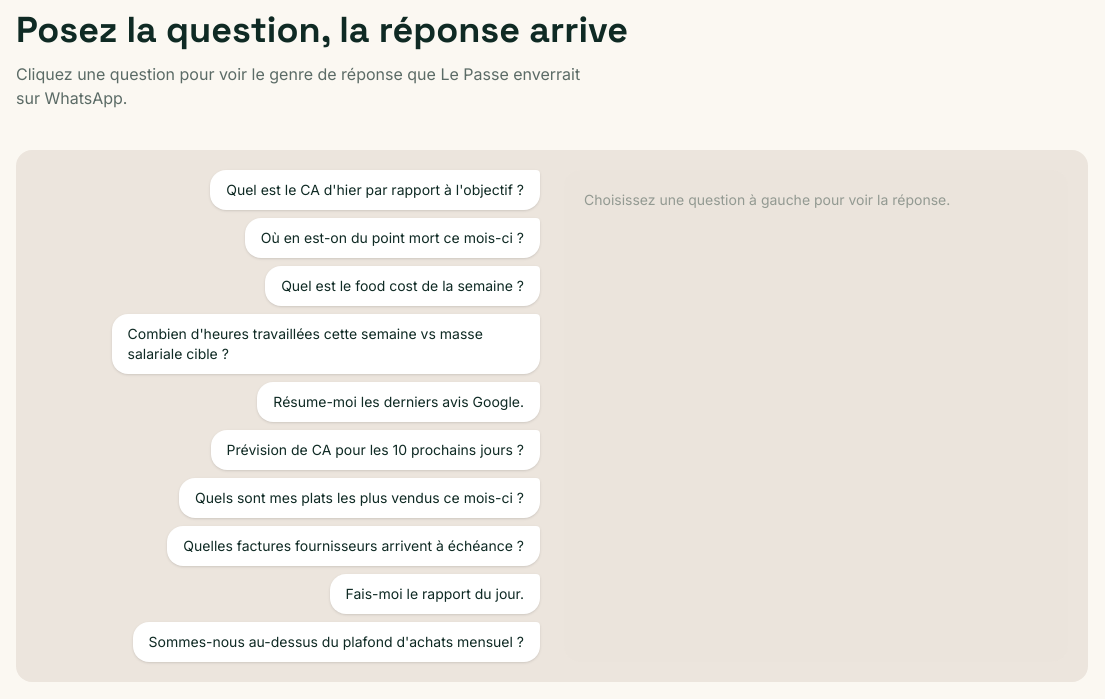
Test: ChatExamples (T-4.3) › shows the 'exemple illustratif' mention alongside the displayed answer
The image size is (1105, 699).
Click the button "Quel est le food cost de la semaine ?".
click(403, 286)  # box 265,266 -> 540,306
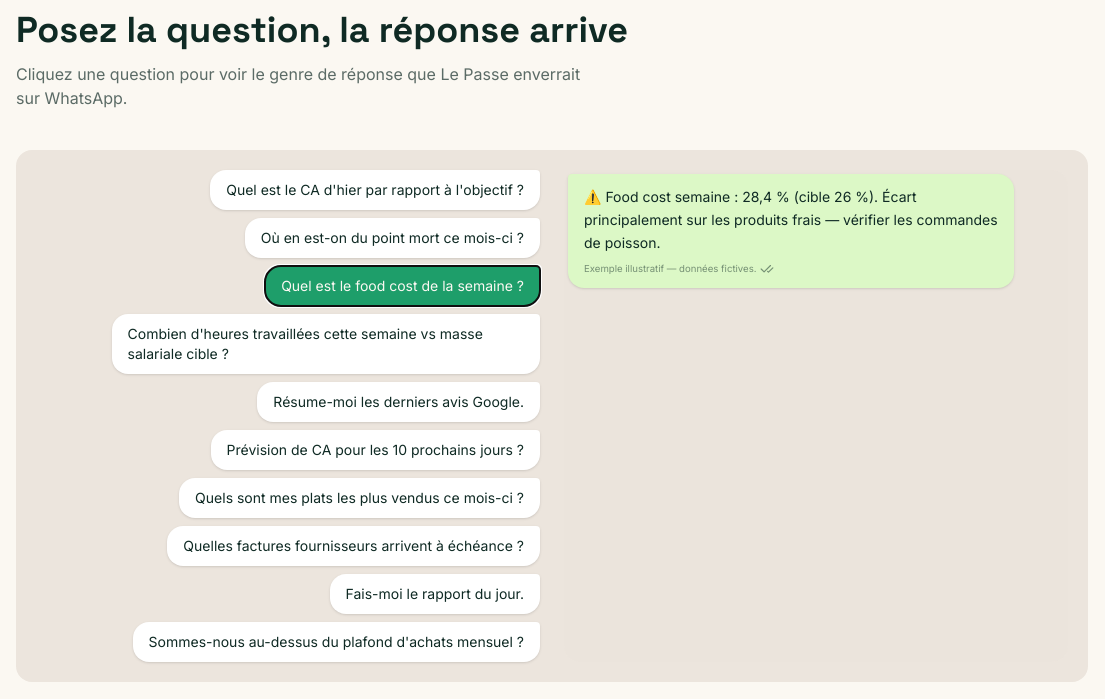
Check: the text "Exemple illustratif — données fictives." is shown, box 584,263 -> 756,276
